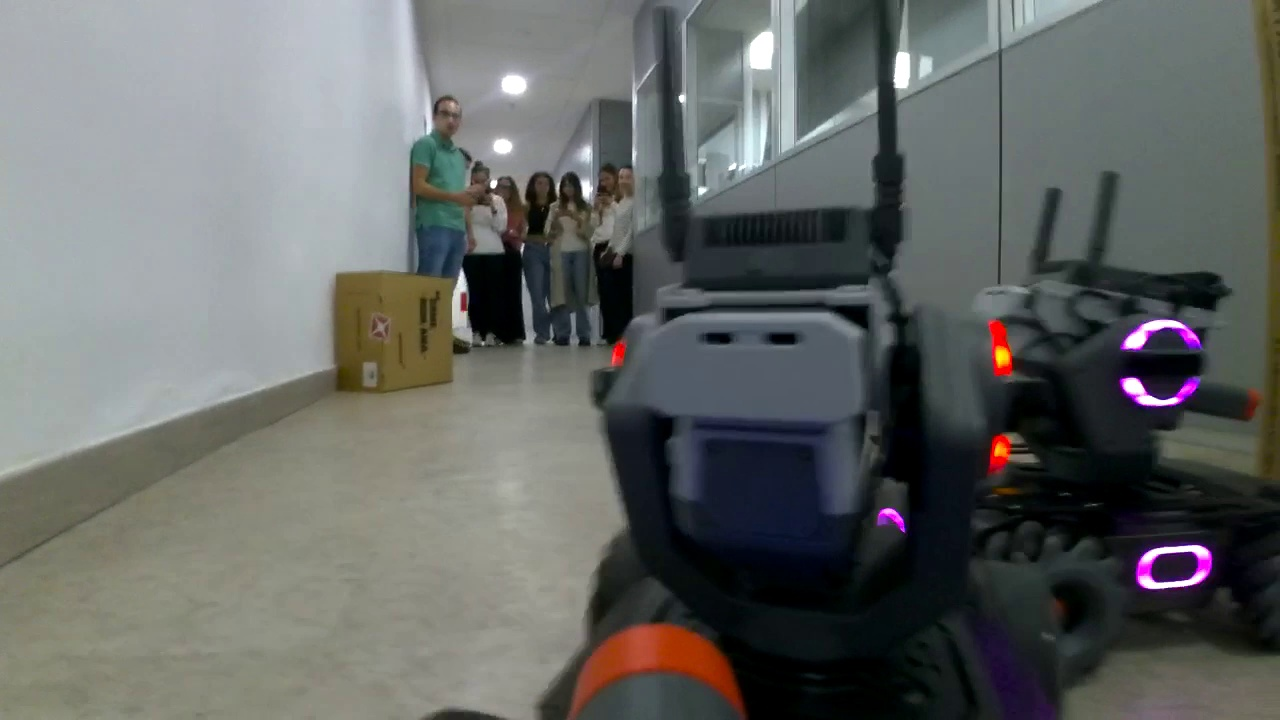robot: (547, 210, 1045, 718), (965, 257, 1275, 666)
